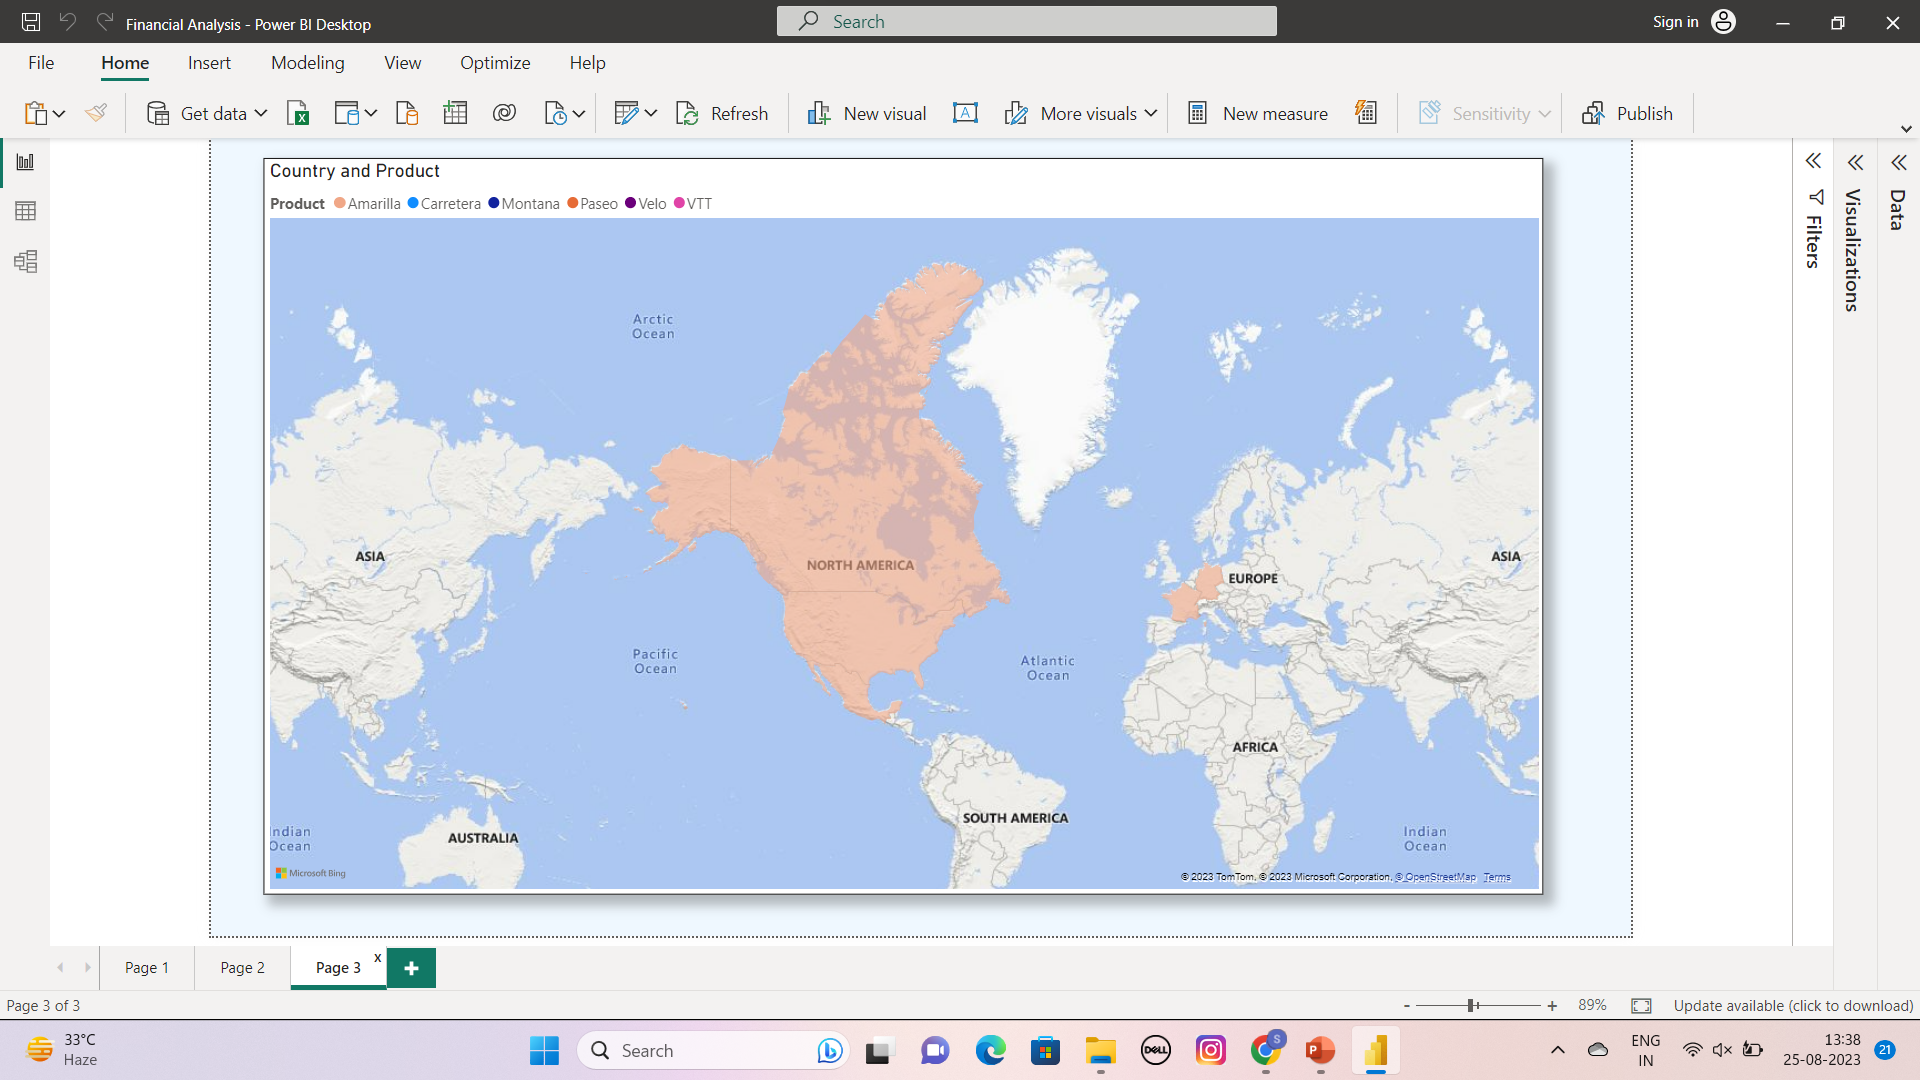

The page's visual inventory and layout, read from the dashboard file:
{"tool":"powerbi","page":{"name":"Page 3","canvas":[1280,720],"ordinal":2},"visuals":[{"type":"filledMap","fields":{"Category":["Sheet1.Country"],"Series":["Sheet1.Product"]},"box":[47.5,17.5,1153.8,663.8],"z":0}]}

Visuals, with their boxes on the page's 1280x720 design canvas (x1, y1, x2, y2). These are canvas units, not pixel positions in the 1920x1080 screenshot, which may show the page scaled, cropped or inside an application window:
filledMap - Sheet1.Country x Sheet1.Product: region(48, 18, 1201, 681)
